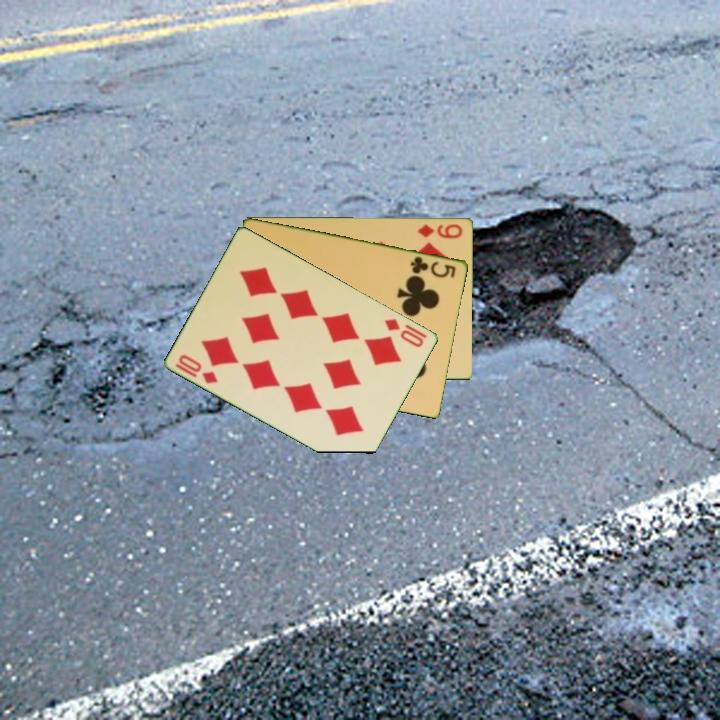10d: (172, 351, 221, 387), (381, 315, 430, 350)
5c: (407, 252, 459, 281)
9d: (414, 220, 465, 241)
